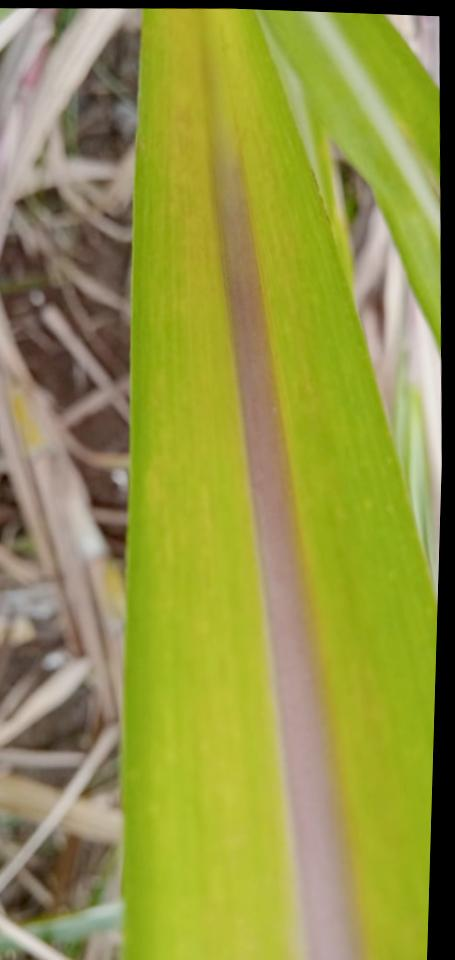RedRot: (213, 156, 361, 960)
Yellow: (160, 9, 273, 296)
